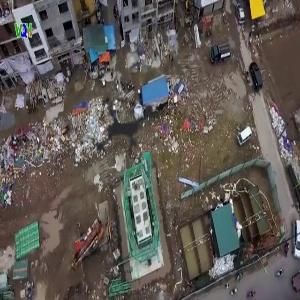drone: (52, 57, 195, 200)
